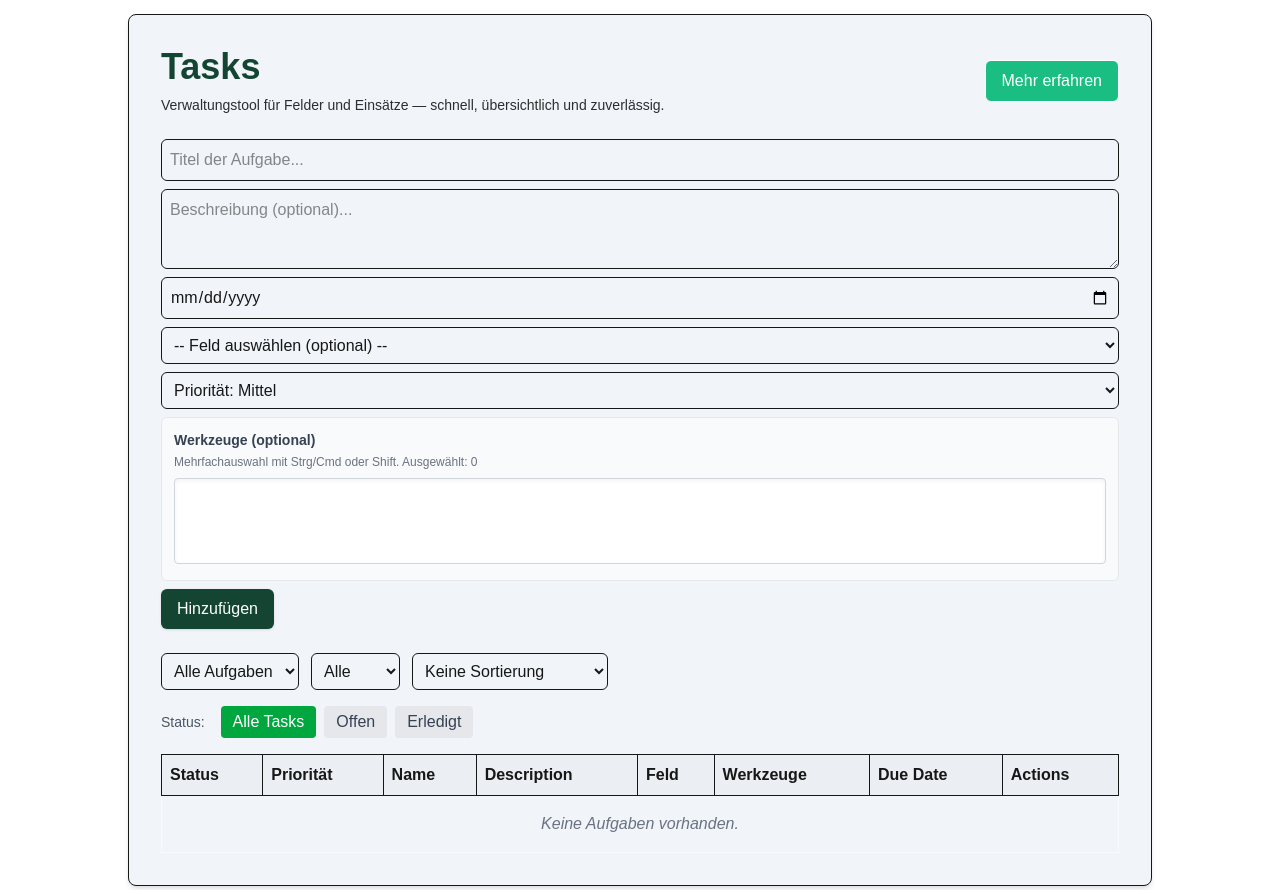
it: Tasks Component - Comprehensive Tests › sorts tasks by due date
Step 1. Select "Nach Fälligkeitsdatum" in the 4th dropdown showing "Keine Sortierung" → point(510, 672), box [412,653,608,690]
(page scrolled)
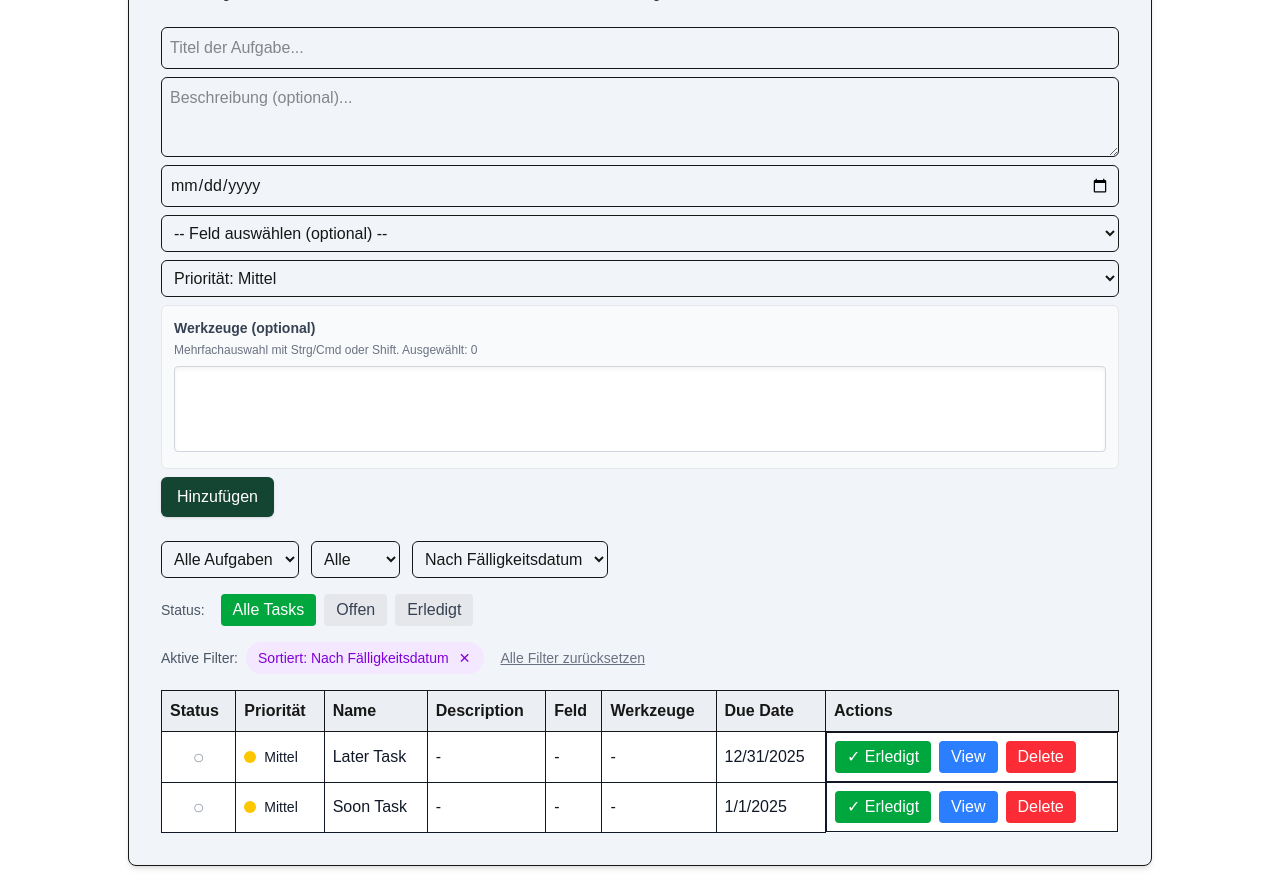
Check: the row "○ Mittel Later Task - - - 12/31/2025 ✓ Erledigt View Delete" is shown, box [162,732,1118,782]
Check: the row "○ Mittel Soon Task - - - 1/1/2025 ✓ Erledigt View Delete" is shown, box [162,782,1118,832]
